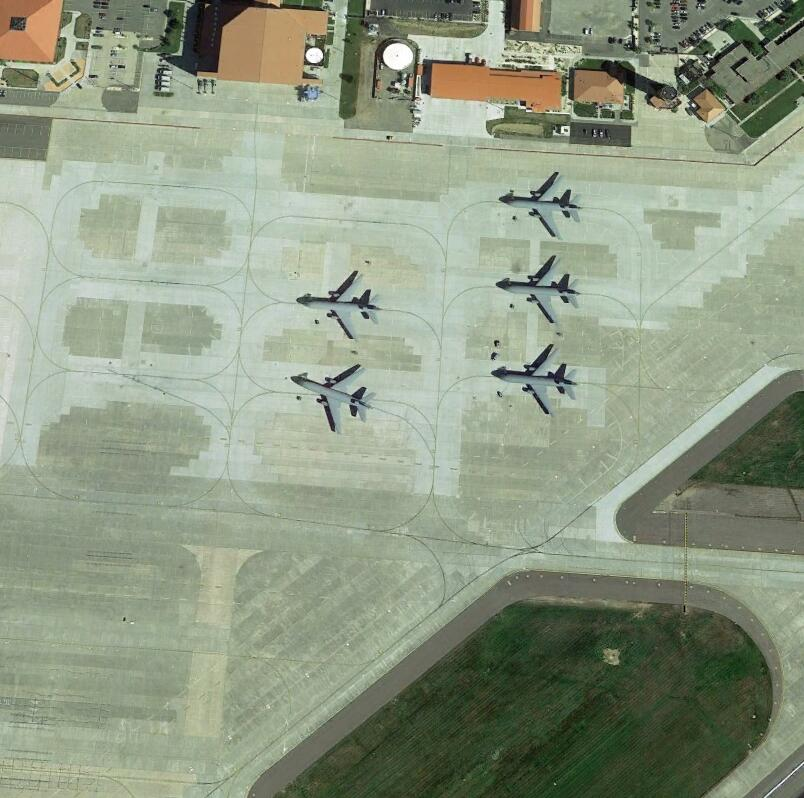A18: (493, 255, 583, 328), (491, 346, 581, 417), (290, 366, 377, 433), (297, 276, 384, 340), (500, 174, 584, 239)
